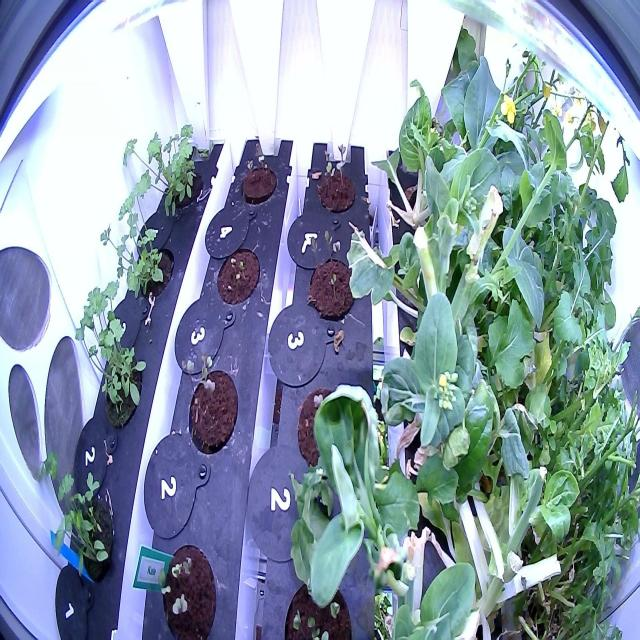germination: (177, 349, 240, 458), (156, 536, 220, 638), (299, 226, 361, 330), (293, 377, 359, 474), (279, 574, 358, 639), (311, 139, 359, 217), (213, 238, 263, 310), (239, 147, 279, 215)
